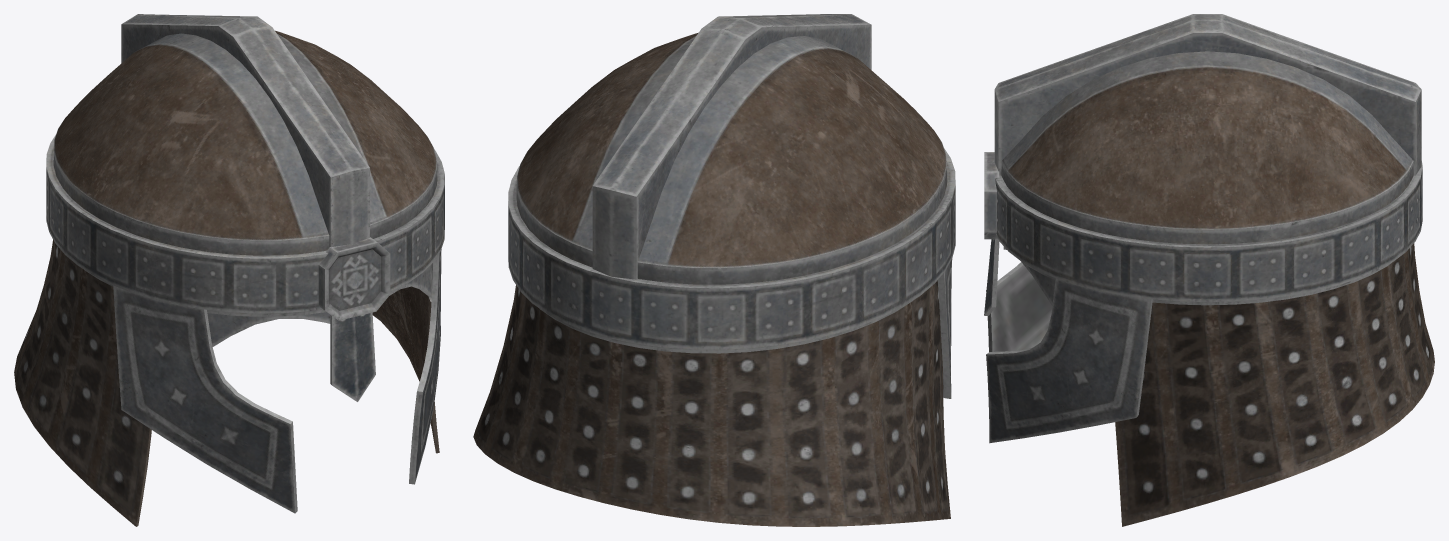
Rendered from sk_dwarf_erebor_helmet_leather_med_a.fbx.
3 views of the same model, side by side, from view 1: azimuth 30°, elevation 25°; view 2: azimuth 150°, elevation 25°; view 3: azimuth 270°, elevation 25° (orthographic). The views are drawn at different scales.
Visible parts, largest first — view 1: sk_dwarf_erebor_helmet_leather_med_a; view 2: sk_dwarf_erebor_helmet_leather_med_a; view 3: sk_dwarf_erebor_helmet_leather_med_a.
Boxes of the visible parts, x1,y1,x2,y2 form: sk_dwarf_erebor_helmet_leather_med_a: [14, 14, 444, 526]; sk_dwarf_erebor_helmet_leather_med_a: [473, 14, 955, 526]; sk_dwarf_erebor_helmet_leather_med_a: [984, 14, 1434, 526].
Bounding box in the file's own units: 0.2795 × 0.2995 × 0.3178.
